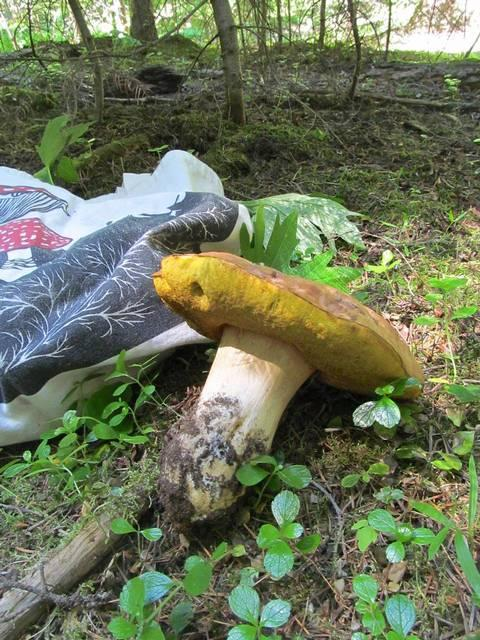edible_mushroom: (150, 248, 425, 539)
